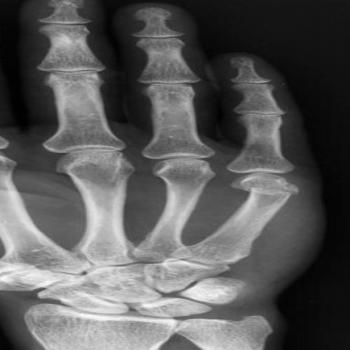Fracture: (221, 178, 310, 200)
